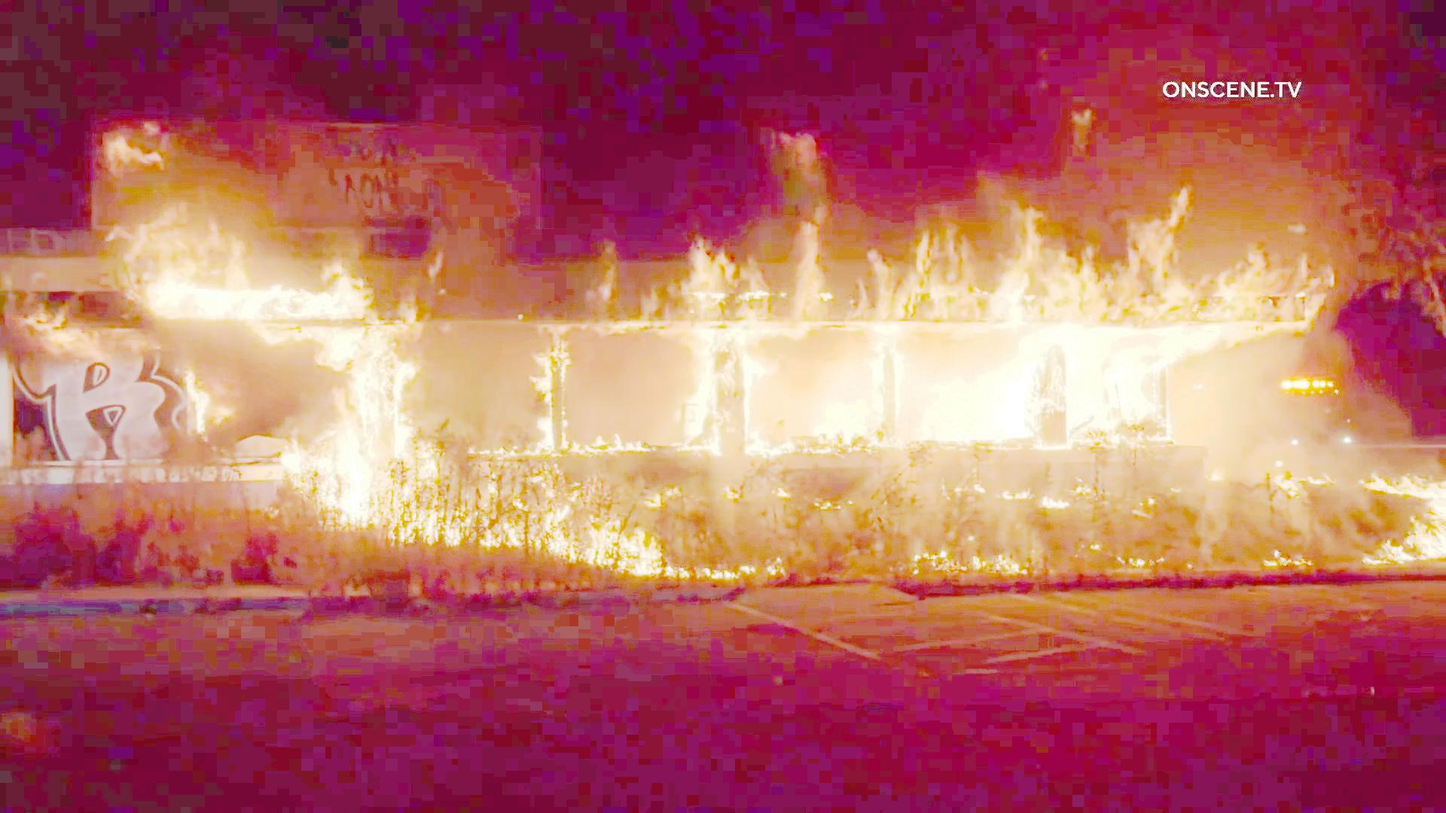fire: (739, 209, 1316, 443), (147, 215, 420, 499)
